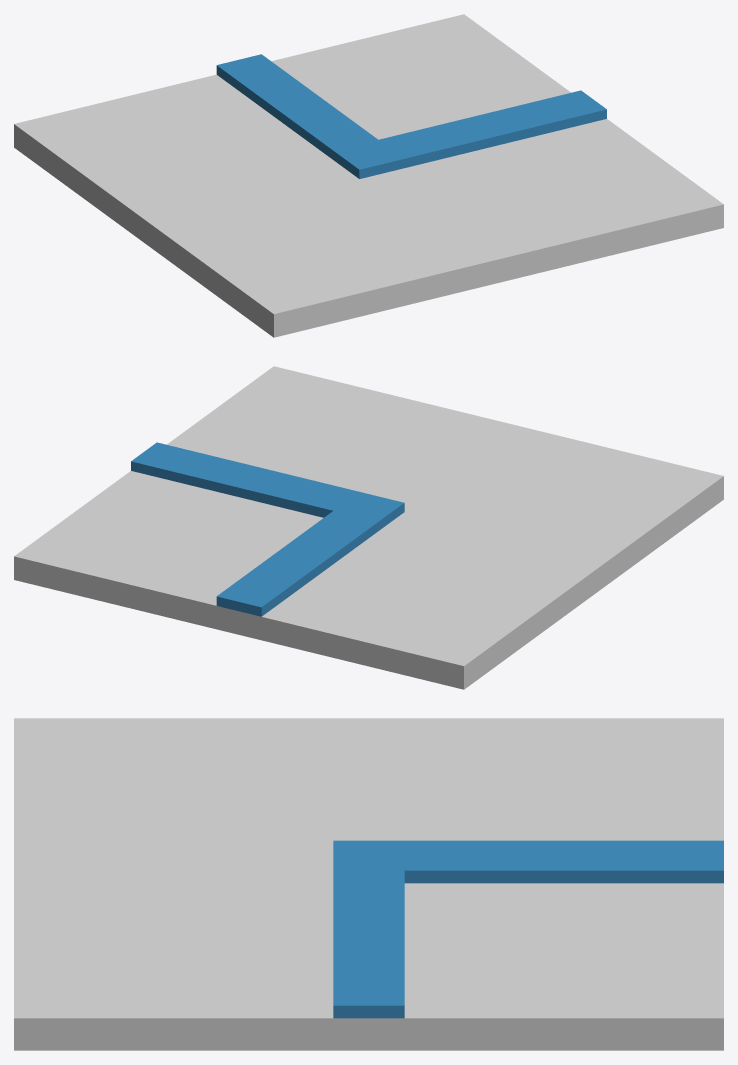
Rendered from 3DTile4.fbx.
The picture shows the model from 3 angles, top to bottom: view 1: azimuth 30°, elevation 25°; view 2: azimuth 150°, elevation 25°; view 3: azimuth 270°, elevation 25°; orthographic projection. The views are drawn at different scales.
Visible parts, largest first — view 1: Plane.003; view 2: Plane.003; view 3: Plane.003.
Part boxes in pixels (left/top/right/bottom): Plane.003: left=14, top=14, right=723, bottom=337; Plane.003: left=14, top=366, right=723, bottom=689; Plane.003: left=14, top=718, right=723, bottom=1050.
Bounding box in the file's own units: 20000 × 1400 × 20000.
